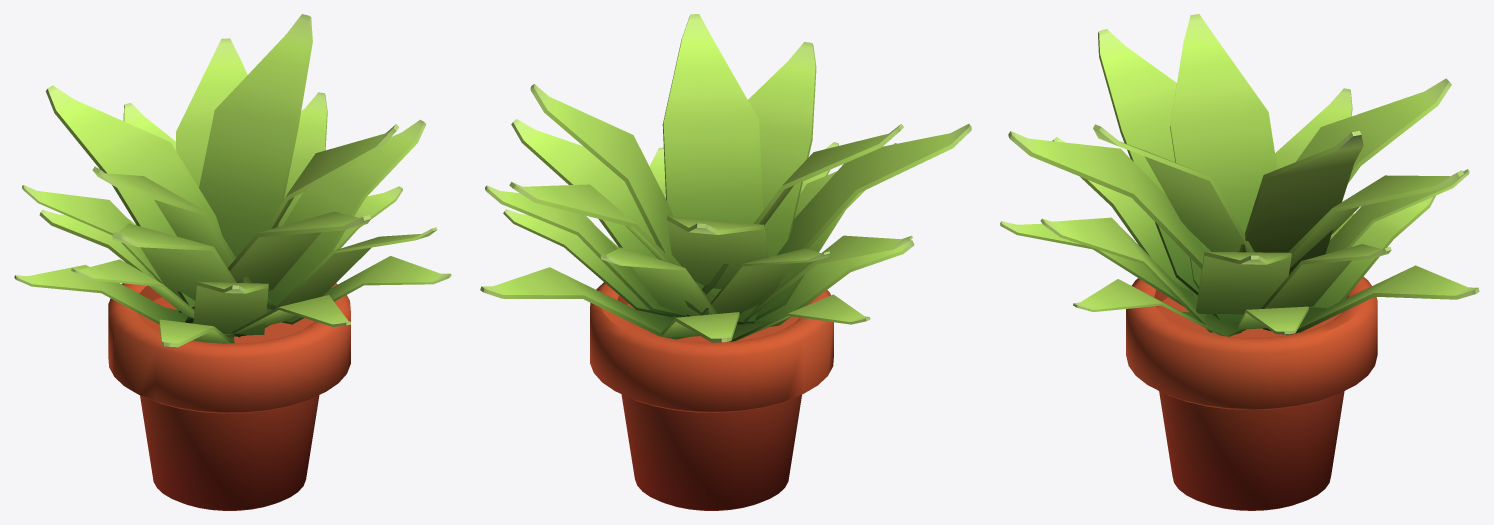
The model's file is carton_box.fbx.
3 views of the same model, side by side, from view 1: azimuth 30°, elevation 25°; view 2: azimuth 150°, elevation 25°; view 3: azimuth 270°, elevation 25° (orthographic). The views are drawn at different scales.
Parts seen in each view (by area): view 1: Cylinder.003; view 2: Cylinder.003; view 3: Cylinder.003.
Part boxes in pixels (x1,y1,x2,y2): Cylinder.003: (14,14,451,510); Cylinder.003: (480,14,971,510); Cylinder.003: (1000,14,1479,510).
Bounding box in the file's own units: 0.4356 × 0.4332 × 0.4555.
23 materials, 23 textured.
